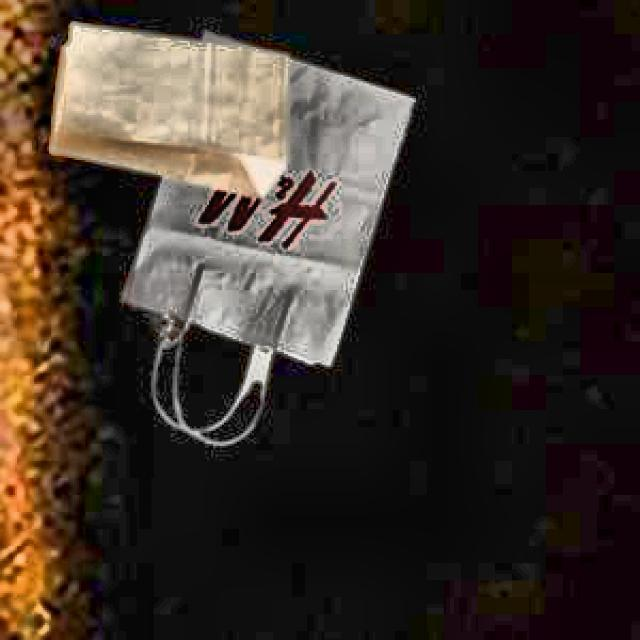Paper-bag: (119, 0, 423, 466), (42, 24, 298, 208)
